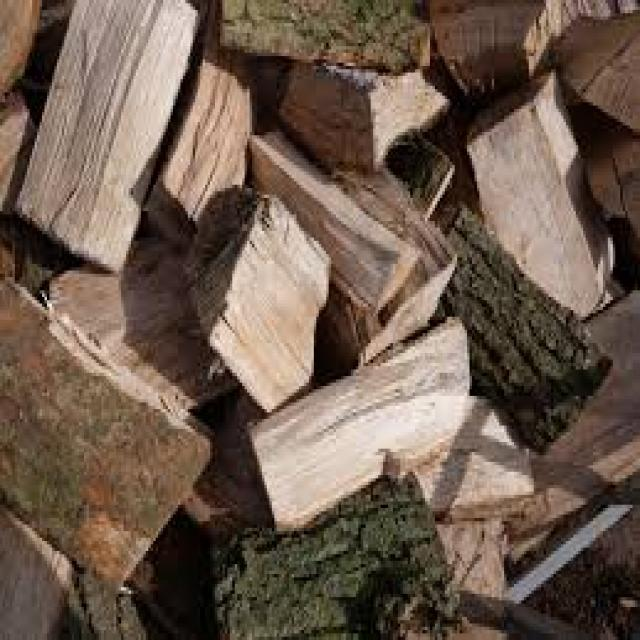Woods: (0, 0, 640, 534)
